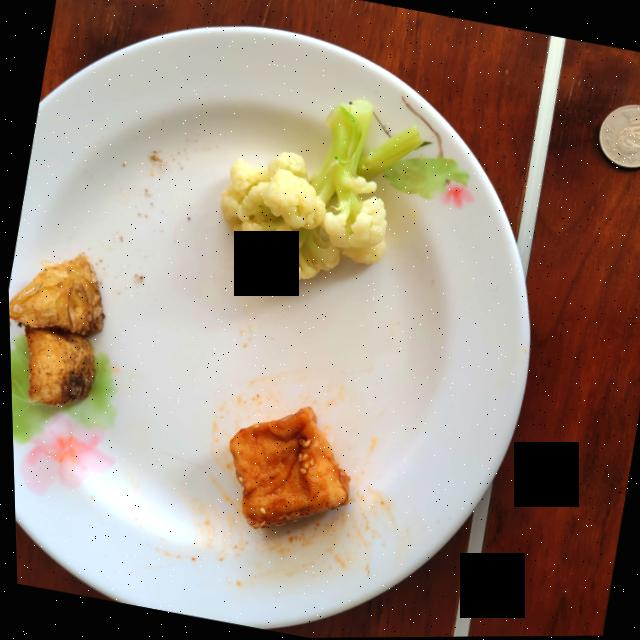coin: (598, 105, 640, 168)
creamy tofu: (227, 407, 346, 528)
fried potato: (7, 254, 102, 406)
